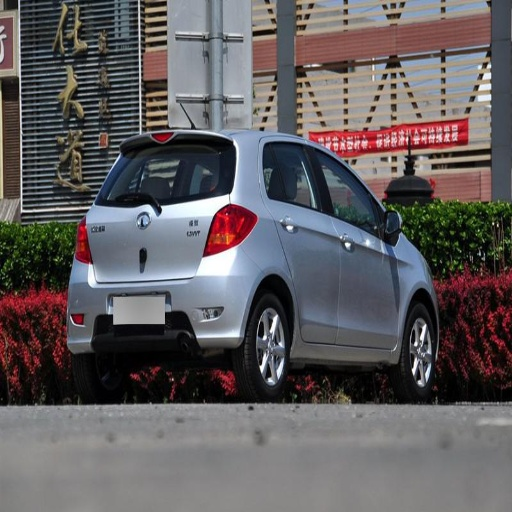back_bumper: (64, 246, 258, 350)
back_right_door: (267, 141, 341, 345)
trunk: (89, 200, 221, 287)
